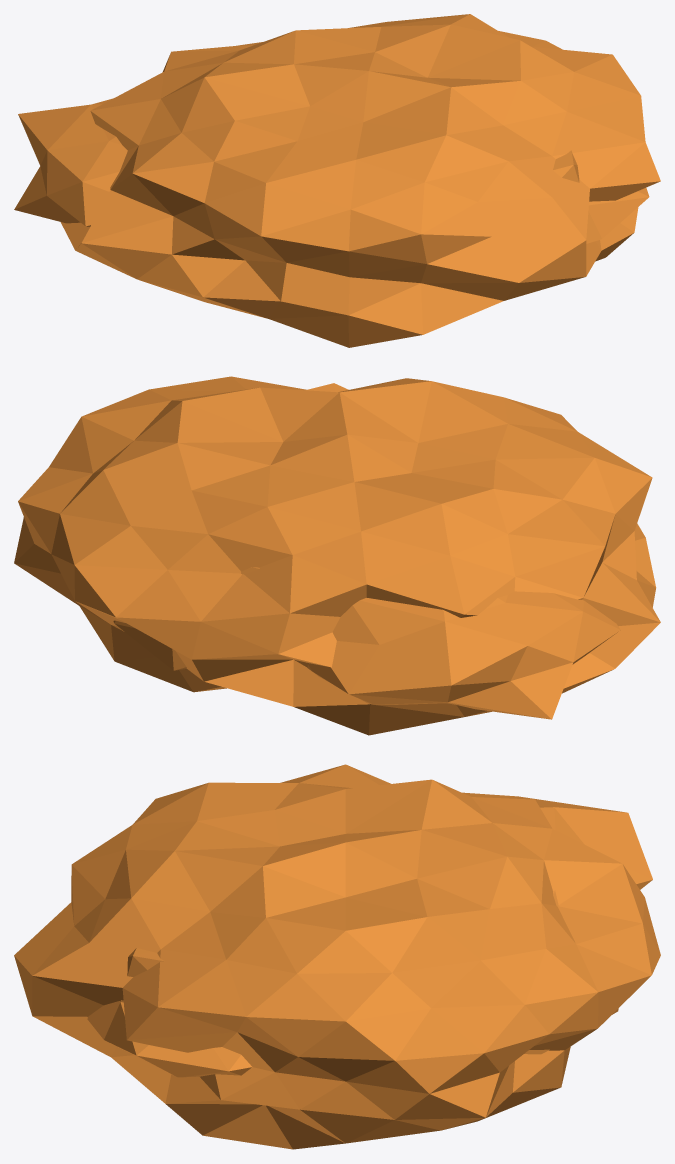
Rendered from hill-autumn.glb.
3 views of the same model, one above another, from view 1: azimuth 30°, elevation 25°; view 2: azimuth 150°, elevation 25°; view 3: azimuth 270°, elevation 25° (orthographic). The views are drawn at different scales.
Parts seen in each view (by area): view 1: mountain; view 2: mountain; view 3: mountain.
Boxes of the visible parts, <box> form: mountain: <box>14,14,660,347</box>; mountain: <box>14,376,660,735</box>; mountain: <box>14,764,660,1149</box>.
Bounding box in the file's own units: 258 × 94.85 × 240.
